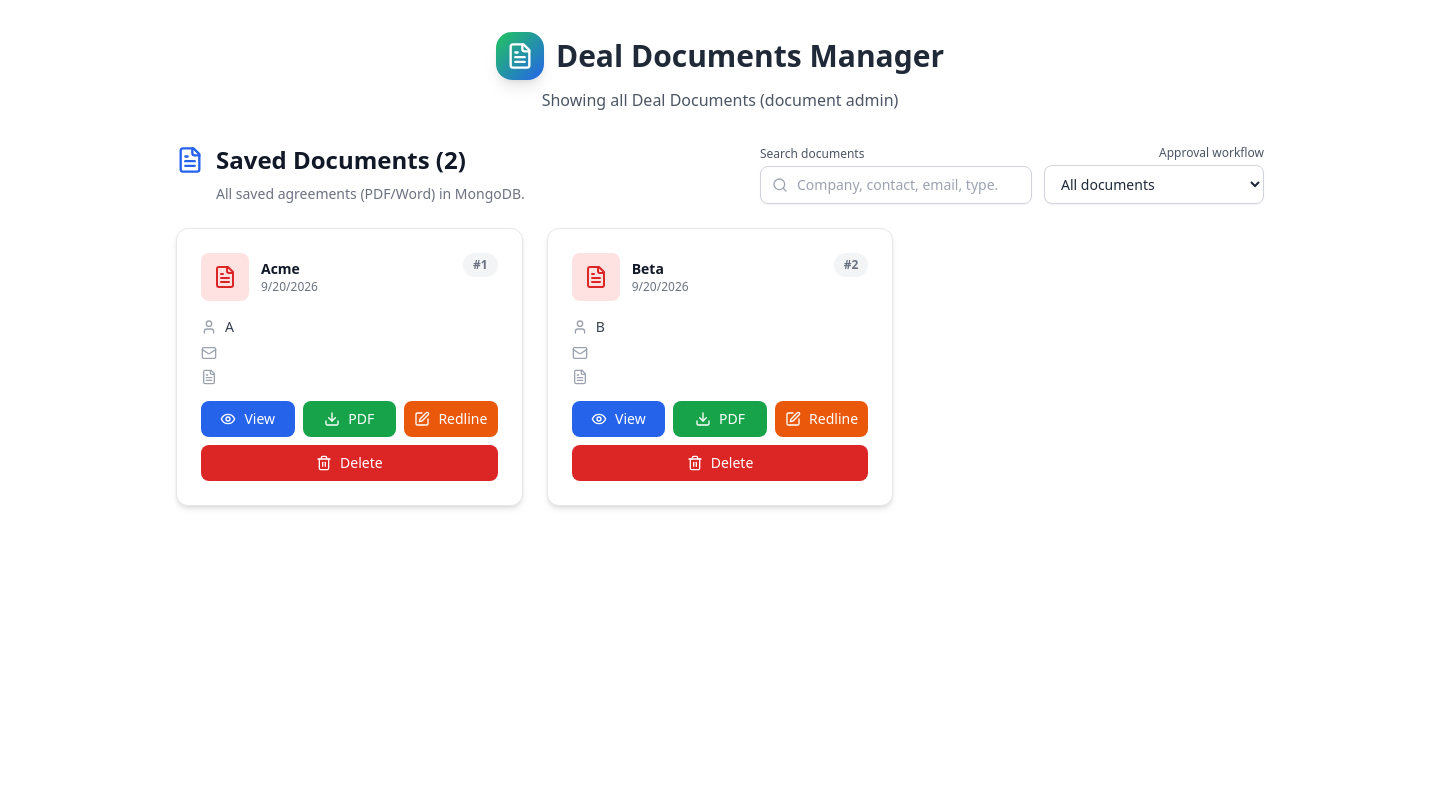
Test: Documents page Delete button › Cancel closes the dialog without deleting
Expected: the heading "Saved Documents (2)" is shown, [176, 143, 466, 176]
Click the button "Delete" below "Beta": (720, 463) [572, 445, 868, 481]
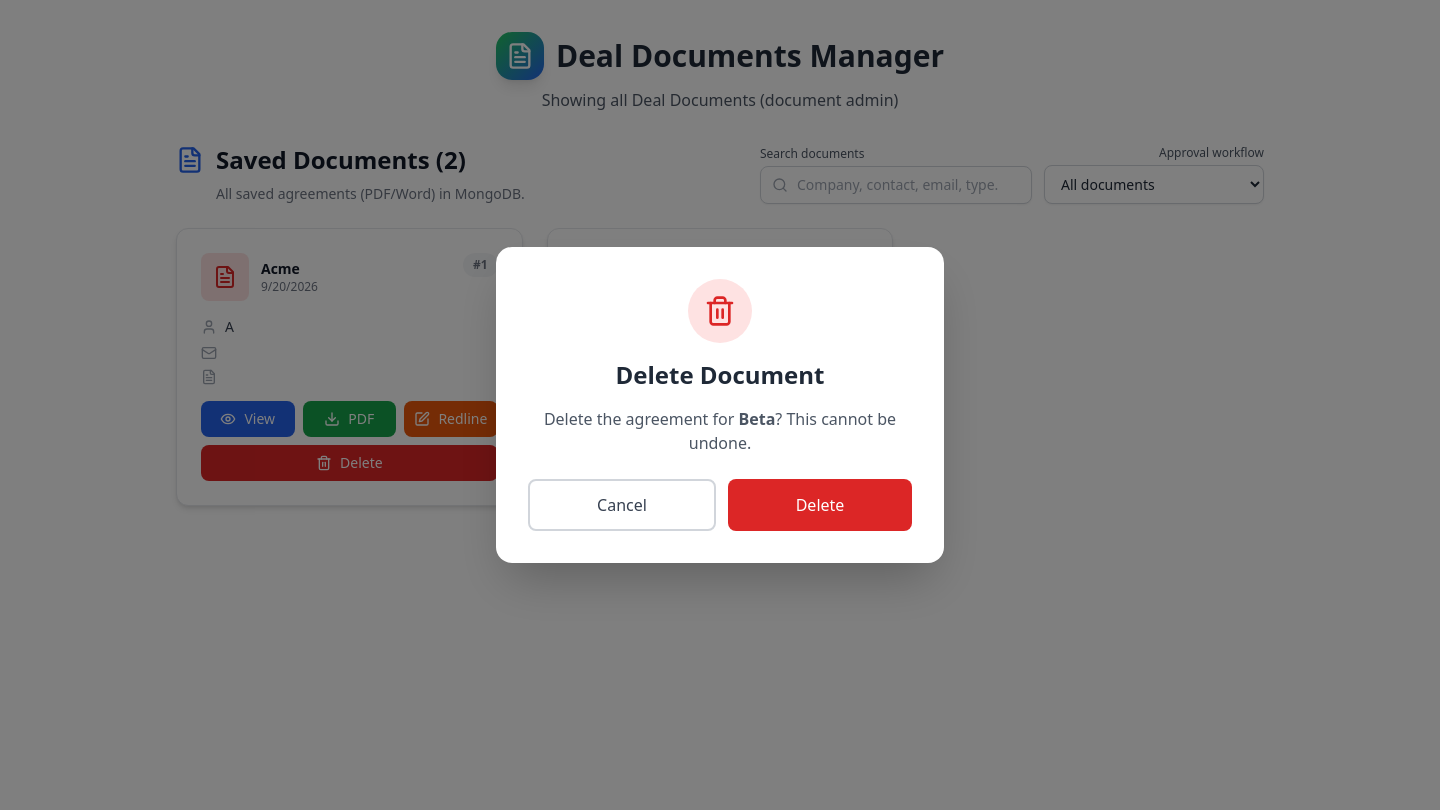
Click the button "Cancel": (622, 505) [528, 479, 716, 531]
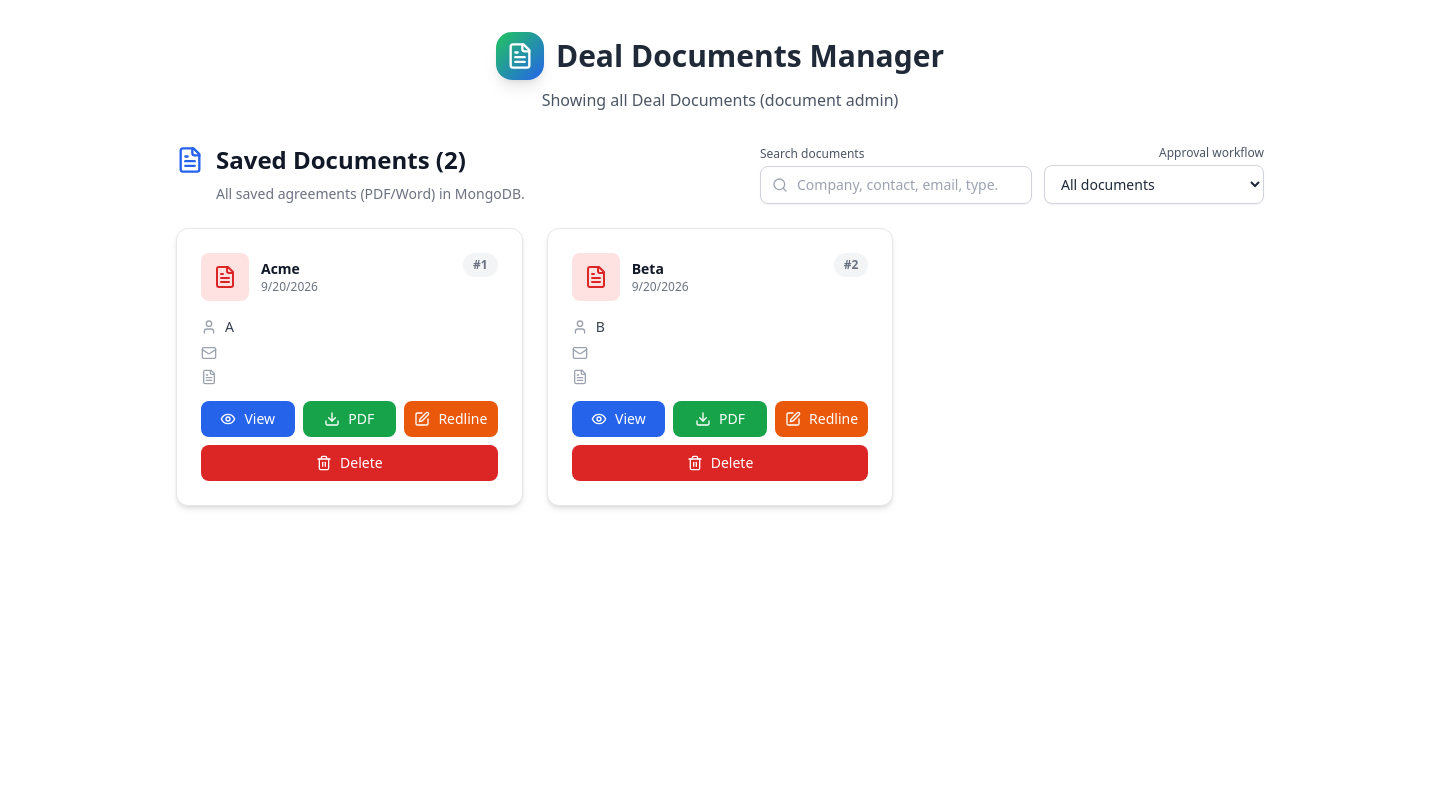
Expected: the heading "Saved Documents (2)" is shown, [176, 143, 466, 176]
Expected: the dialog is gone
